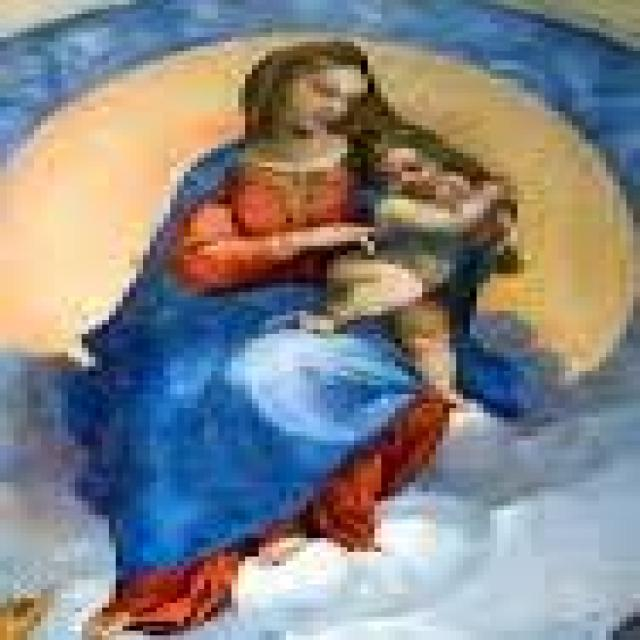mother of god: (58, 22, 550, 606)
